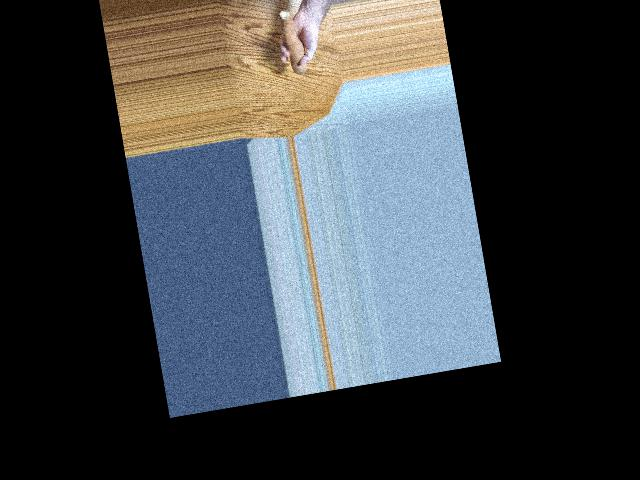sweet_potato: (278, 13, 309, 72)
